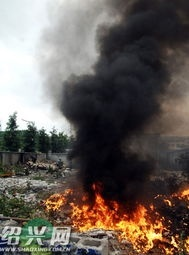fire: (57, 179, 187, 255)
